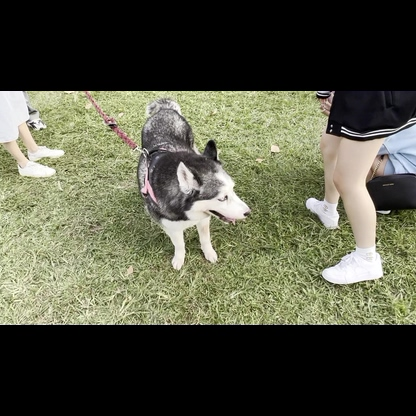husky: (129, 96, 259, 274)
